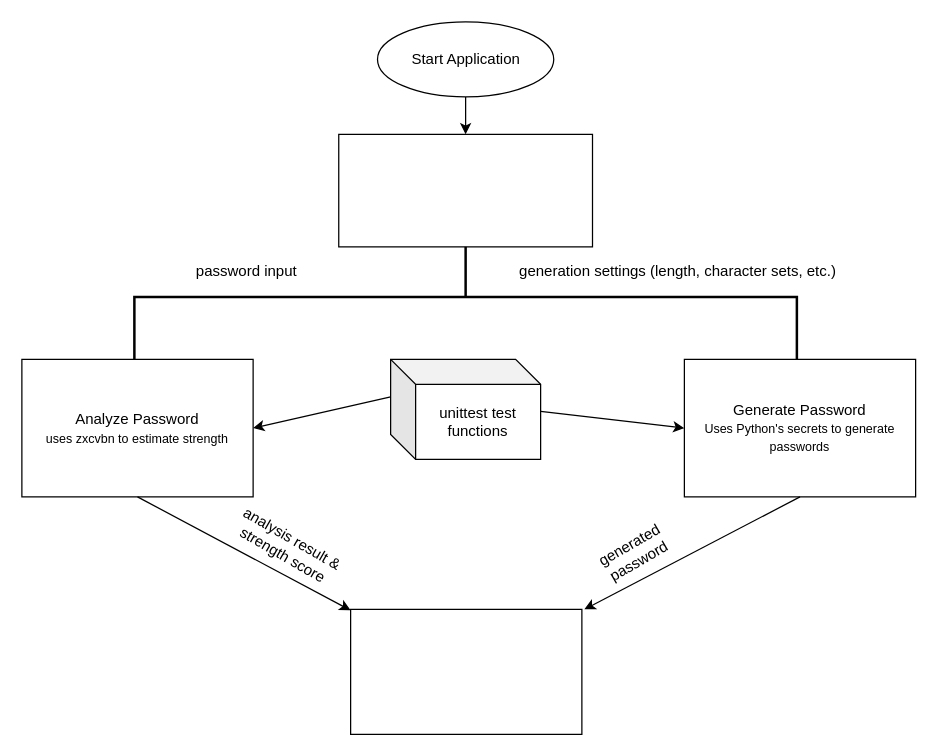
Image size: 938x756. Some labels were removed from this diagram. Each missing label, with the centre of its shape:
Results Display: pixel 465 671
User Interface Analyze Password OR Generate Password: pixel 465 190
